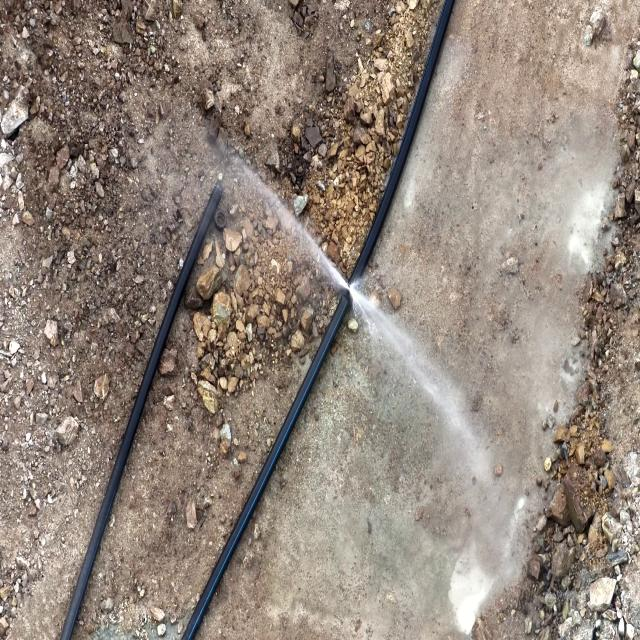leak: (226, 138, 404, 359)
